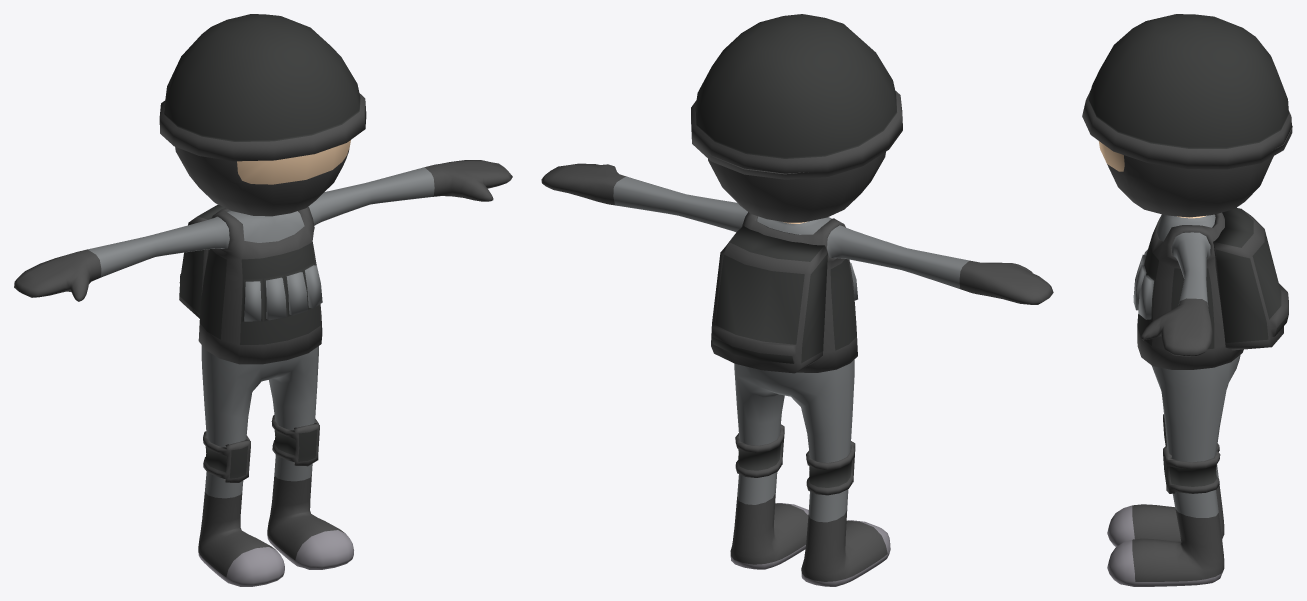
Rendered from main_character.fbx.
The picture shows the model from 3 angles, left to right: view 1: azimuth 30°, elevation 25°; view 2: azimuth 150°, elevation 25°; view 3: azimuth 270°, elevation 25°; orthographic projection. The views are drawn at different scales.
Parts seen in each view (by area): view 1: soldier, soldier_helmet, soldier_armor, soldier_BA, soldier_backpack; view 2: soldier, soldier_helmet, soldier_backpack, soldier_armor, soldier_BA; view 3: soldier, soldier_helmet, soldier_backpack, soldier_armor, soldier_BA.
Boxes of the visible parts, x1,y1,x2,y2 form: soldier: [14, 140, 512, 586]; soldier_helmet: [159, 14, 366, 161]; soldier_armor: [198, 206, 322, 364]; soldier_BA: [203, 415, 319, 482]; soldier_backpack: [179, 204, 224, 318]; soldier: [541, 152, 1053, 586]; soldier_helmet: [691, 14, 902, 179]; soldier_backpack: [711, 225, 827, 373]; soldier_armor: [742, 212, 857, 372]; soldier_BA: [735, 424, 855, 495]; soldier: [1098, 141, 1273, 586]; soldier_helmet: [1082, 14, 1292, 169]; soldier_backpack: [1213, 207, 1288, 350]; soldier_armor: [1133, 212, 1243, 369]; soldier_BA: [1163, 414, 1220, 493].
Bounding box in the file's own units: 949 × 975 × 348.
